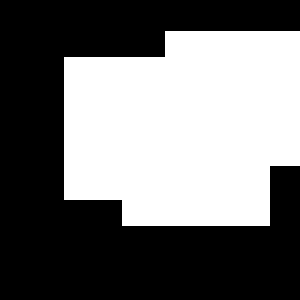circle: (122, 78, 270, 226), (64, 57, 207, 200), (165, 31, 300, 166)
